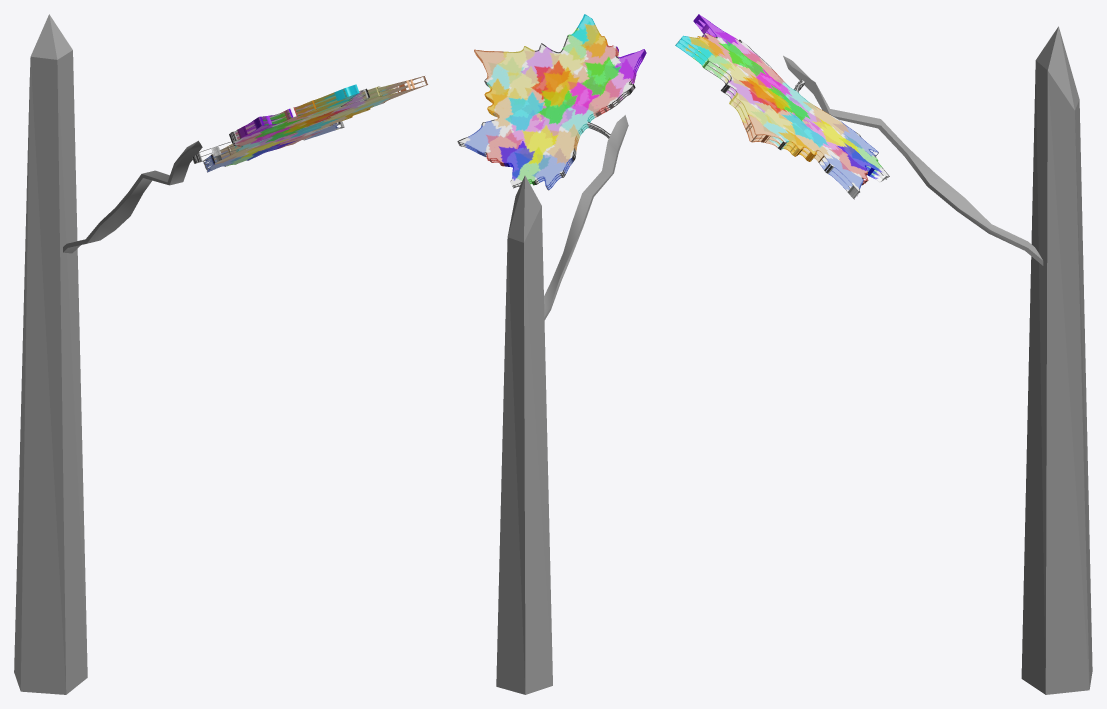
File: tree.fbx
3 renders of one model, left to right at view 1: azimuth 30°, elevation 25°; view 2: azimuth 150°, elevation 25°; view 3: azimuth 270°, elevation 25°, orthographic. The views are drawn at different scales.
Visible parts, largest first — view 1: pCylinder1, planarTrimmedSurface1, Branch1; view 2: pCylinder1, planarTrimmedSurface1, Branch1; view 3: pCylinder1, planarTrimmedSurface1, Branch1.
Boxes of the visible parts, <box> form: pCylinder1: <box>14,14,87,694</box>; planarTrimmedSurface1: <box>192,76,427,172</box>; Branch1: <box>63,140,202,253</box>; pCylinder1: <box>496,175,552,694</box>; planarTrimmedSurface1: <box>457,14,646,190</box>; Branch1: <box>544,115,628,319</box>; pCylinder1: <box>1021,26,1092,694</box>; planarTrimmedSurface1: <box>675,14,889,199</box>; Branch1: <box>783,55,1043,265</box>.
Bounding box in the file's own units: 0.7232 × 1.92 × 1.05.
